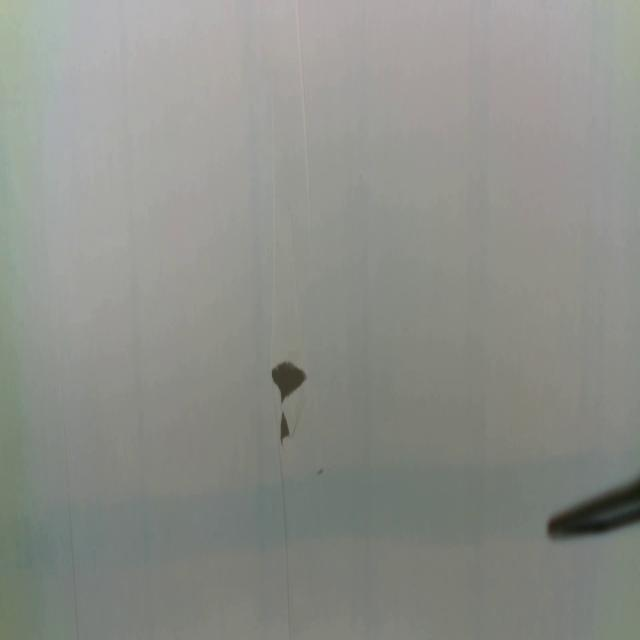color bleeding: (1, 446, 544, 576)
crease: (61, 361, 79, 640), (295, 0, 315, 243), (278, 446, 292, 640), (270, 87, 277, 348)
hole: (271, 356, 309, 404), (279, 409, 290, 446), (316, 466, 324, 478)
